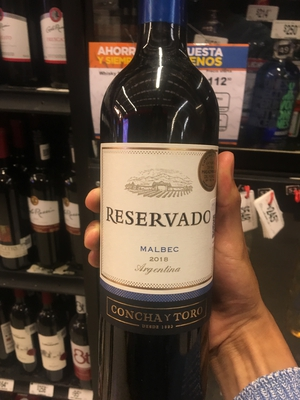reservado malbec: (88, 6, 216, 400)
